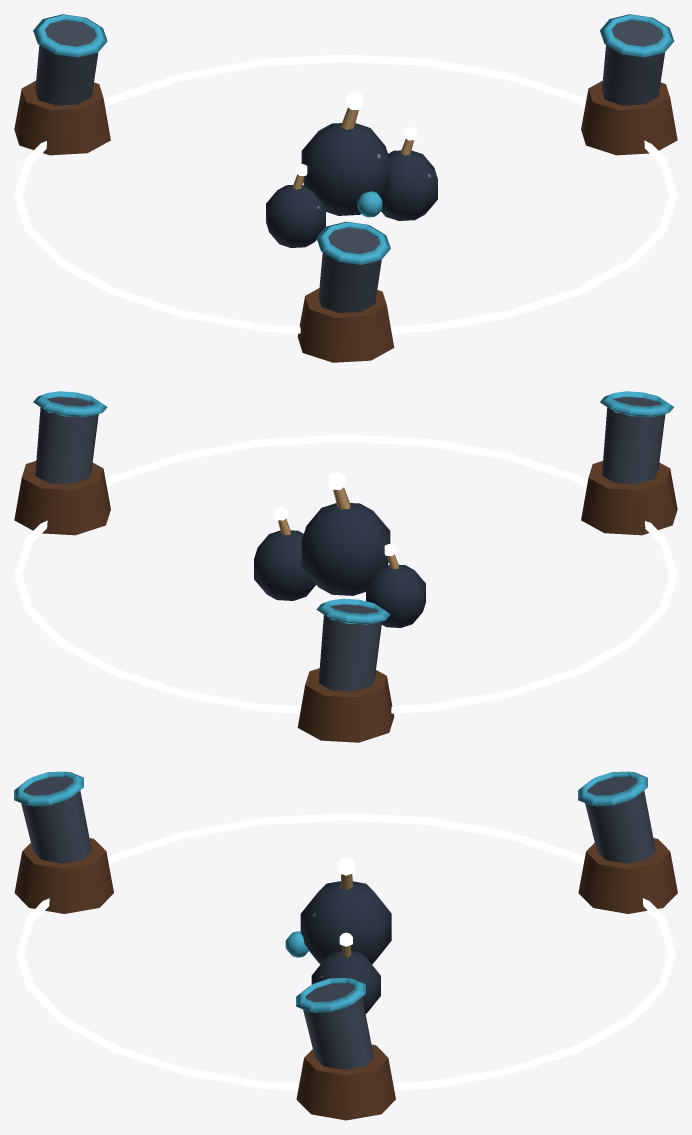
Rendered from sango_p1.glb.
The picture shows the model from 3 angles, top to bottom: view 1: azimuth 30°, elevation 25°; view 2: azimuth 150°, elevation 25°; view 3: azimuth 270°, elevation 25°; orthographic projection.
Parts seen in each view (by area): view 1: p1_mortars_body, p1_bombs_body, p1_mortars_glow, p1_bombs_glow; view 2: p1_mortars_body, p1_bombs_body, p1_mortars_glow, p1_bombs_glow; view 3: p1_mortars_body, p1_mortars_glow, p1_bombs_body.
Boxes of the visible parts, x1,y1,x2,y2 form: p1_mortars_body: [14, 14, 677, 362]; p1_bombs_body: [266, 107, 437, 247]; p1_mortars_glow: [14, 54, 677, 333]; p1_bombs_glow: [296, 92, 417, 175]; p1_mortars_body: [14, 391, 677, 742]; p1_bombs_body: [254, 487, 425, 627]; p1_mortars_glow: [14, 434, 677, 713]; p1_bombs_glow: [274, 472, 395, 555]; p1_mortars_body: [14, 771, 677, 1120]; p1_mortars_glow: [16, 813, 676, 1090]; p1_bombs_body: [285, 874, 391, 1013].
Size of the model in its own units: 0.737 by 0.1654 by 0.6934.
